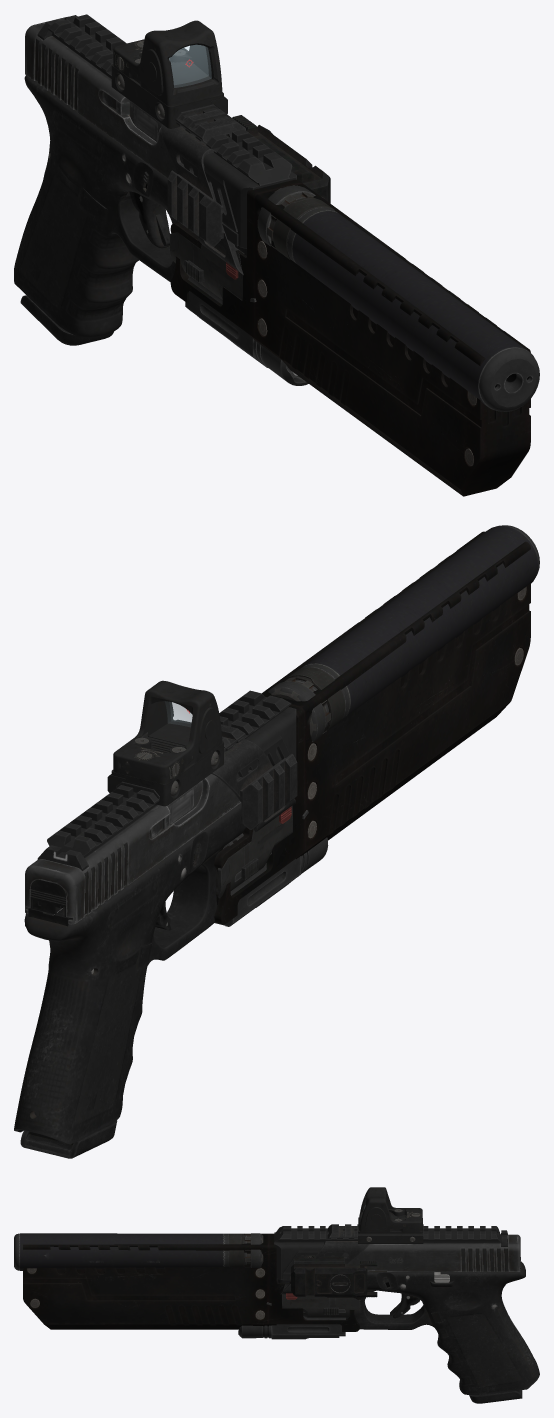
3 views of the same model, one above another, from view 1: azimuth 30°, elevation 25°; view 2: azimuth 150°, elevation 25°; view 3: azimuth 270°, elevation 25° (orthographic). The views are drawn at different scales.
Parts seen in each view (by area): view 1: box_suppressor, frame, suppressor, rail_cover, slide, red_dot, box_suppressor_clamp, clamp_mount_jaw, clamp_mount, red_dot_mount_plate, light, compact_light (+12 smaller); view 2: frame, box_suppressor, suppressor, slide, rail_cover, red_dot, box_suppressor_clamp, clamp_mount_jaw, clamp_mount, red_dot_mount_plate, light, compact_light (+5 smaller); view 3: box_suppressor, frame, suppressor, slide, rail_cover, laser, box_suppressor_clamp, red_dot, light, compact_light, clamp_mount, red_dot_mount_clamp (+11 smaller).
Part boxes in pixels (<box>): box_suppressor: <box>254,183,530,496</box>; frame: <box>14,75,246,337</box>; suppressor: <box>273,197,539,411</box>; rail_cover: <box>47,14,296,248</box>; slide: <box>25,17,183,178</box>; red_dot: <box>113,20,222,106</box>; box_suppressor_clamp: <box>170,179,302,352</box>; clamp_mount_jaw: <box>167,170,223,246</box>; clamp_mount: <box>161,124,243,274</box>; red_dot_mount_plate: <box>111,64,223,128</box>; light: <box>183,260,267,367</box>; compact_light: <box>198,244,244,300</box>; frame: <box>14,802,246,1144</box>; box_suppressor: <box>262,531,530,851</box>; suppressor: <box>295,525,539,727</box>; slide: <box>25,749,281,924</box>; rail_cover: <box>47,690,296,858</box>; red_dot: <box>113,680,222,783</box>; box_suppressor_clamp: <box>171,705,319,924</box>; clamp_mount_jaw: <box>240,754,297,829</box>; clamp_mount: <box>211,739,295,832</box>; red_dot_mount_plate: <box>111,741,223,806</box>; light: <box>215,852,300,926</box>; compact_light: <box>242,805,292,881</box>; box_suppressor: <box>23,1233,268,1329</box>; frame: <box>277,1261,539,1394</box>; suppressor: <box>14,1233,246,1270</box>; slide: <box>301,1234,520,1271</box>; rail_cover: <box>274,1226,500,1280</box>; laser: <box>291,1264,367,1297</box>; box_suppressor_clamp: <box>252,1233,359,1331</box>; red_dot: <box>358,1187,422,1231</box>; light: <box>271,1309,345,1339</box>; compact_light: <box>282,1284,329,1317</box>; clamp_mount: <box>280,1241,369,1294</box>; red_dot_mount_clamp: <box>358,1230,423,1243</box>.
Bounding box in the file's own units: 0.0532 × 0.1582 × 0.3683.
Materials: 14 (12 with a texture image).
